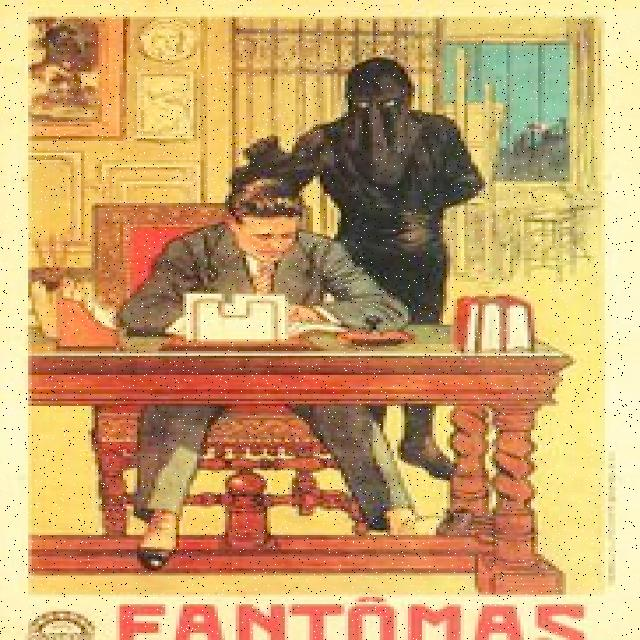movie-judul: (109, 595, 598, 640)
picture: (28, 18, 604, 594)
